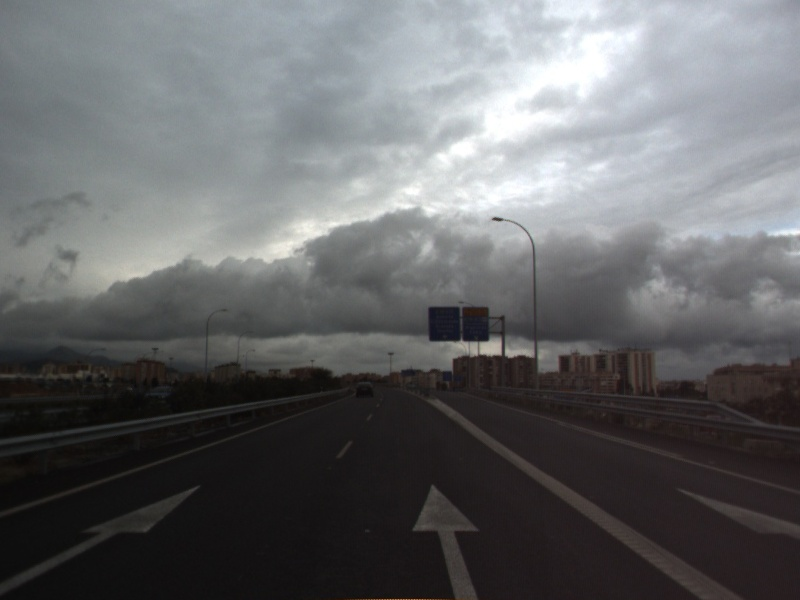STRAIGHT: (1, 482, 204, 596), (406, 479, 483, 600)
